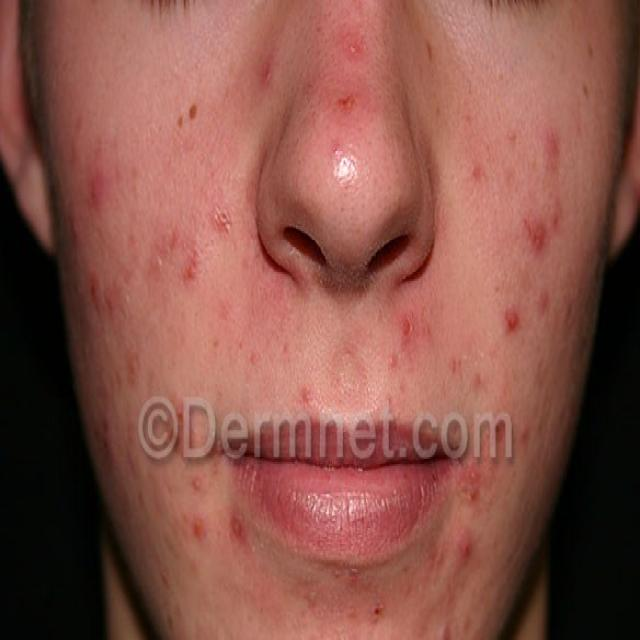Acne: (79, 131, 241, 320), (460, 102, 590, 309), (450, 313, 545, 569), (325, 11, 391, 142), (371, 320, 444, 396), (189, 498, 256, 553)
